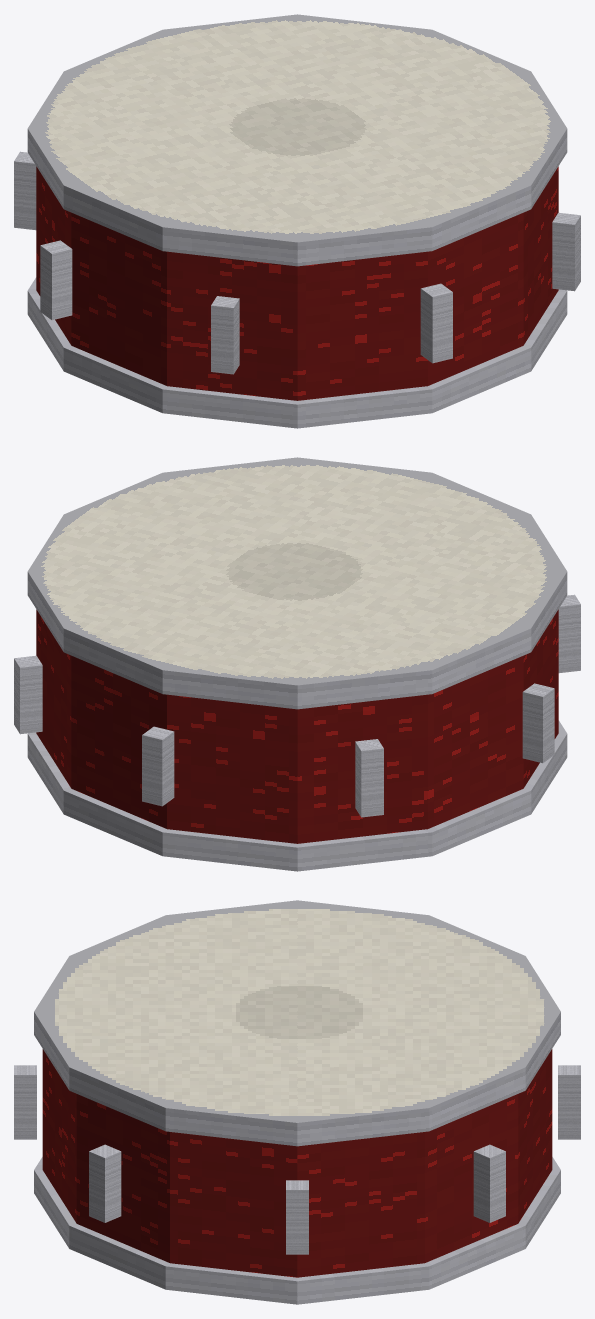
File: spare_drum.glb
3 views of the same model, one above another, from view 1: azimuth 30°, elevation 25°; view 2: azimuth 150°, elevation 25°; view 3: azimuth 270°, elevation 25° (orthographic). The views are drawn at different scales.
Visible parts, largest first — view 1: spare_drum; view 2: spare_drum; view 3: spare_drum.
Boxes of the visible parts, <box> form: spare_drum: <box>14,14,580,428</box>; spare_drum: <box>14,457,580,871</box>; spare_drum: <box>14,900,580,1304</box>.
Bounding box in the file's own units: 0.396 × 0.14 × 0.396.
Materials: 3 (3 with a texture image).
